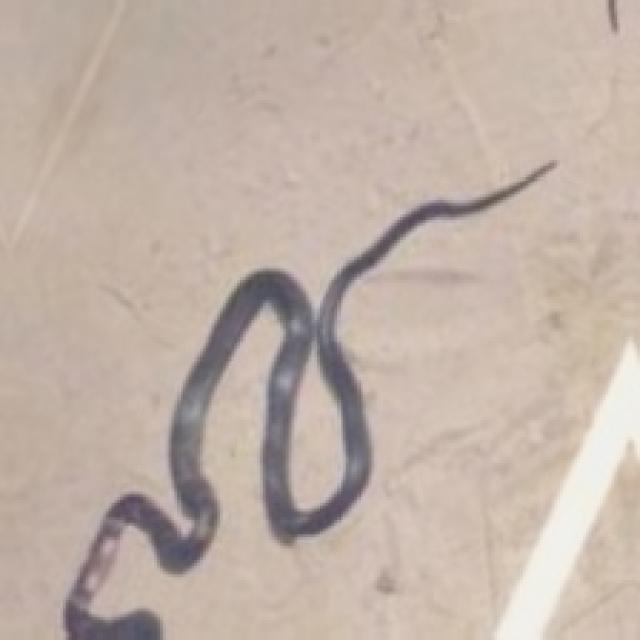king cobra: (63, 163, 554, 637)
